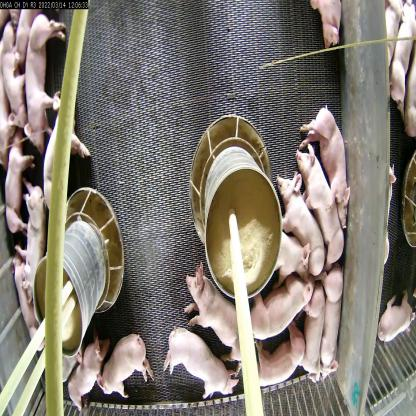Pig: (299, 95, 356, 230), (186, 255, 244, 369), (31, 91, 91, 200), (292, 146, 339, 266), (162, 324, 237, 398), (22, 17, 63, 151), (276, 163, 323, 273), (17, 180, 54, 286), (249, 270, 310, 327), (317, 258, 343, 391), (100, 332, 150, 398), (244, 327, 297, 385), (2, 131, 34, 227), (262, 229, 314, 286), (0, 17, 26, 129), (300, 281, 322, 380), (68, 342, 104, 397), (310, 0, 343, 55)
